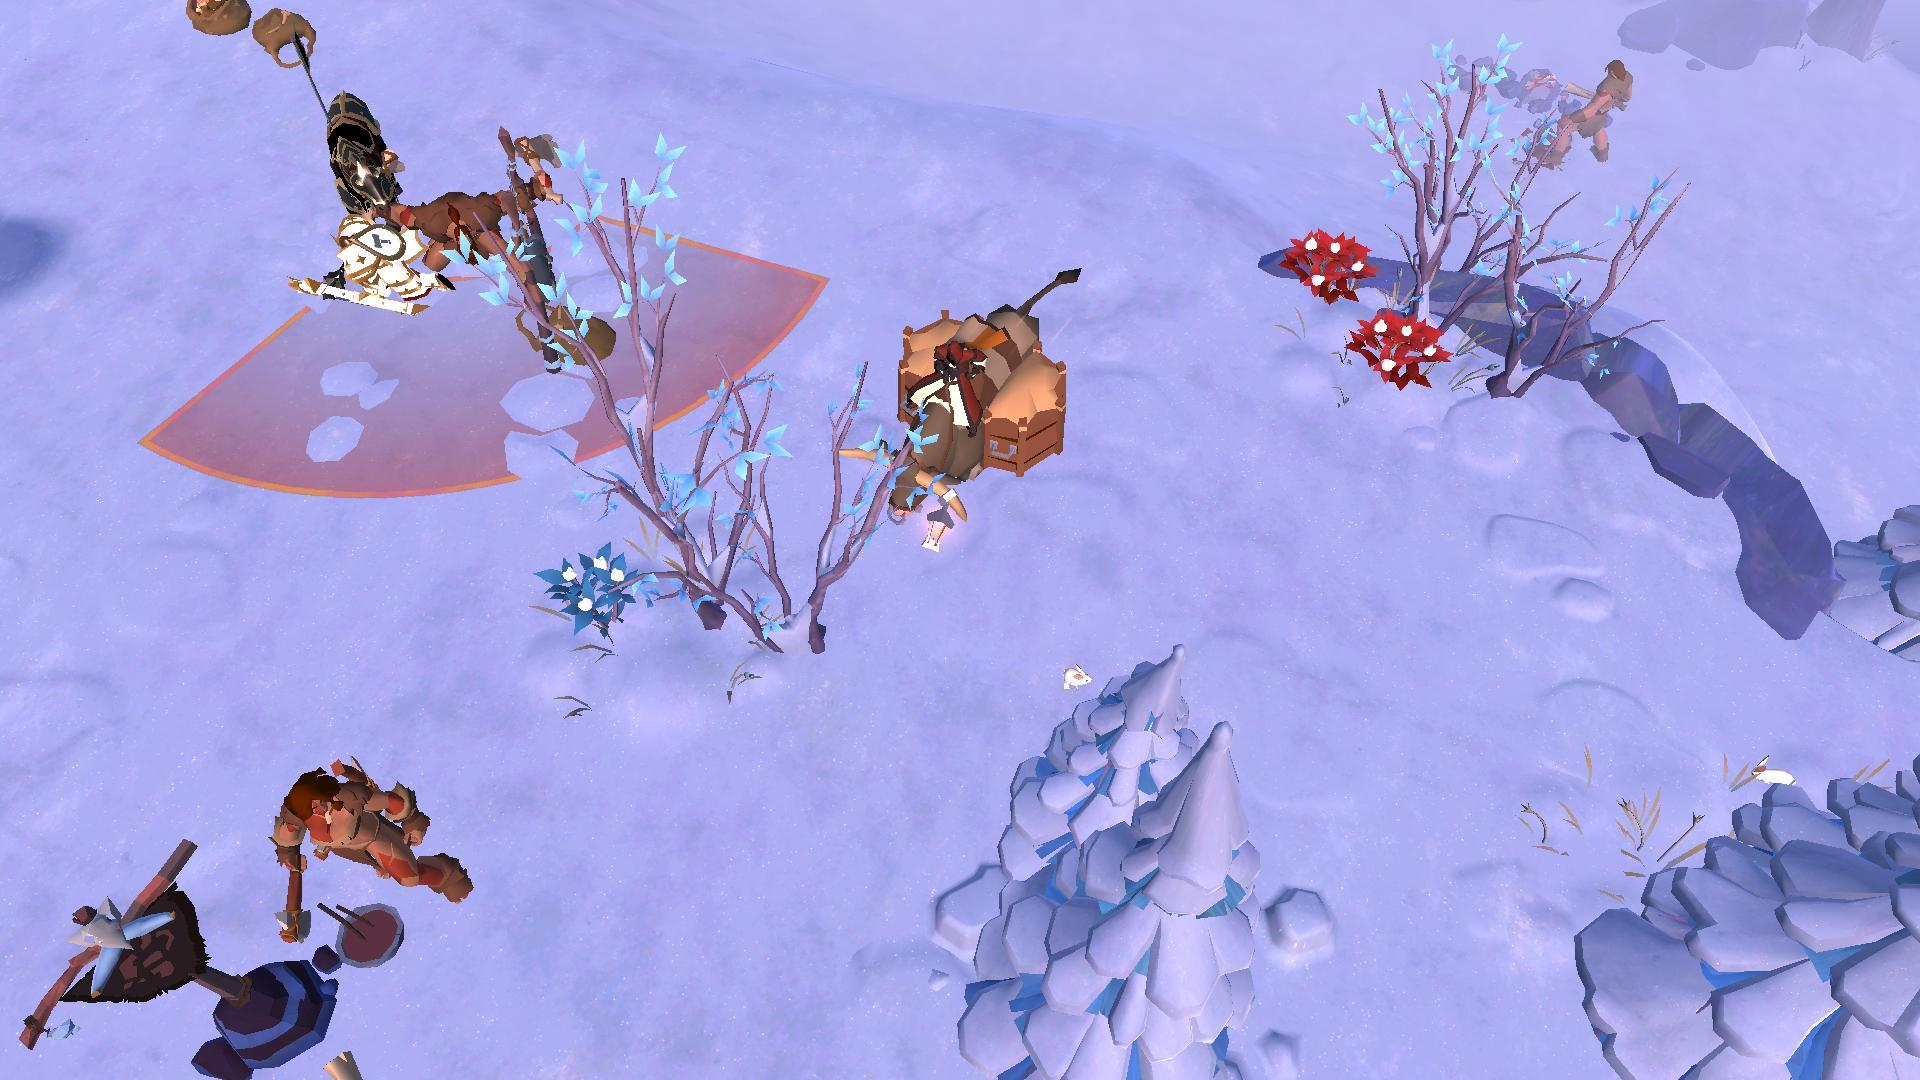enemy_factionKeeper: (268, 761, 487, 942)
fiber_t4: (542, 543, 644, 634)
fiber_t5: (1345, 306, 1456, 400), (1282, 229, 1375, 310)
